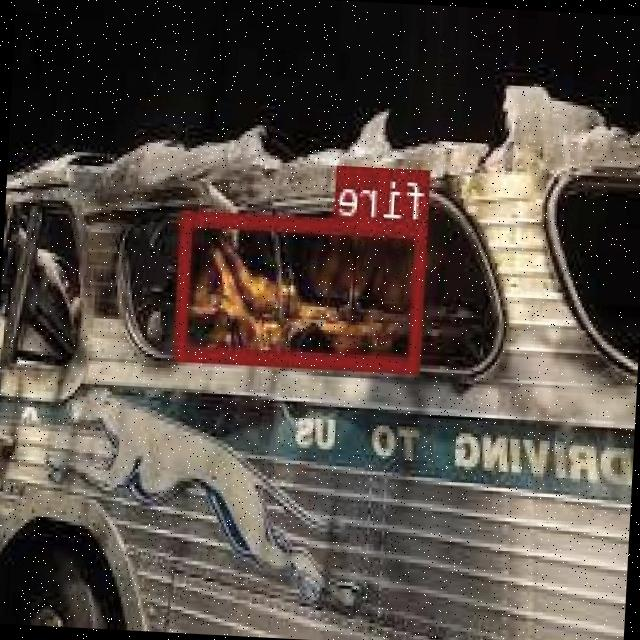fire: (178, 208, 428, 371)
